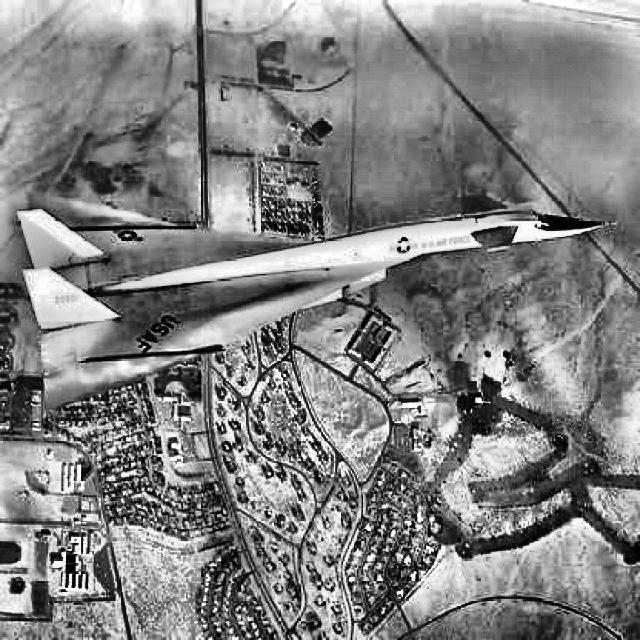XB70: (16, 190, 618, 412)
